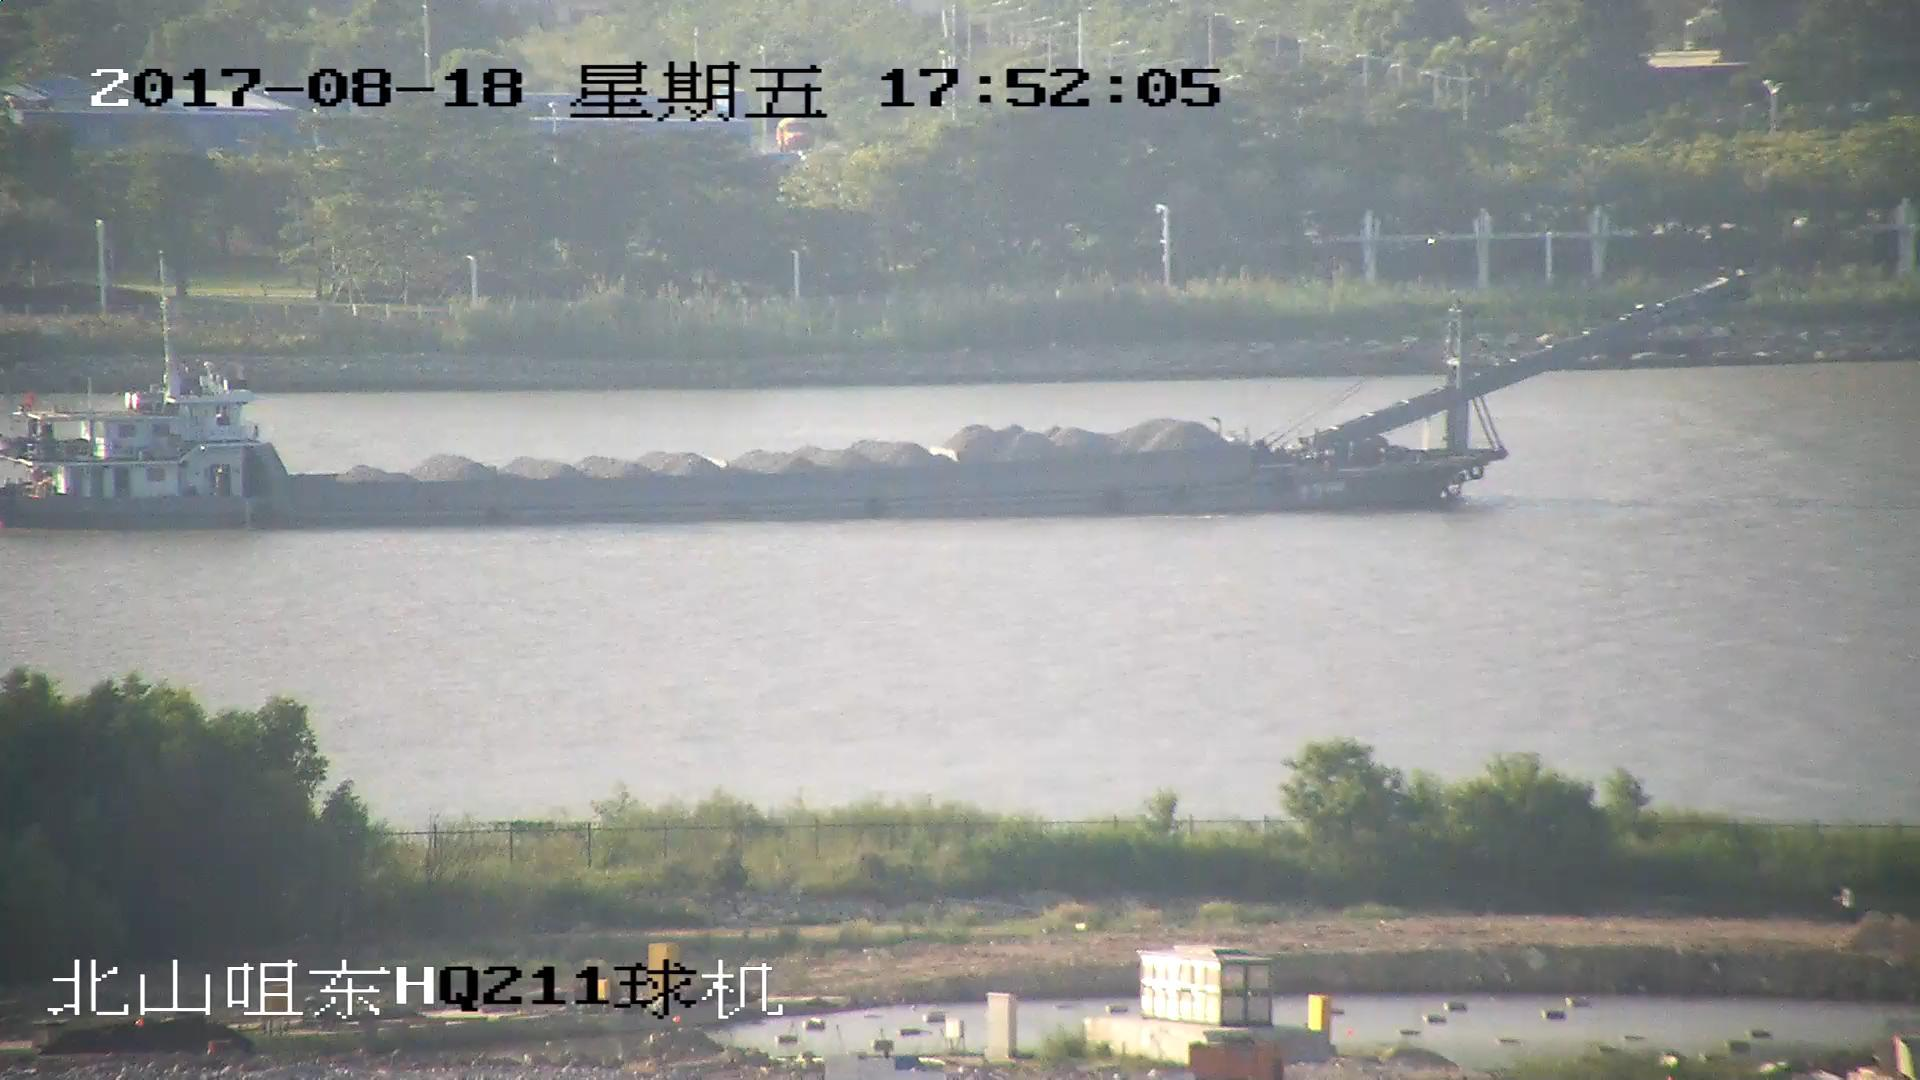Ship: (3, 273, 1747, 530)
